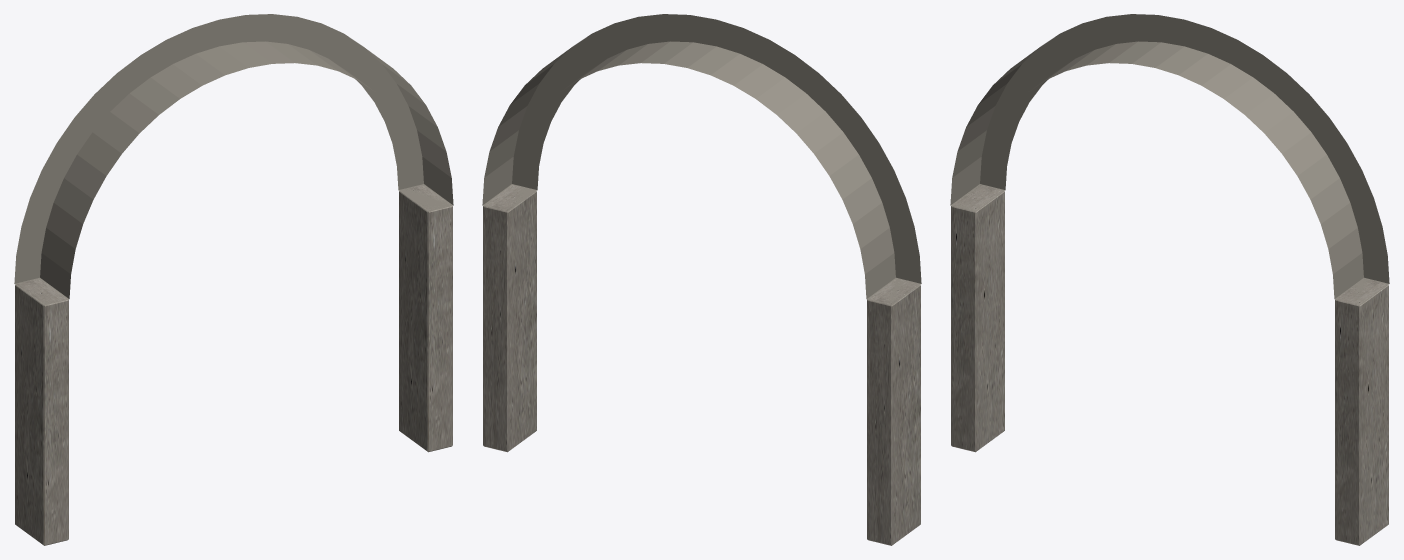
The model's file is concrete_arch.glb.
3 renders of one model, left to right at view 1: azimuth 30°, elevation 25°; view 2: azimuth 150°, elevation 25°; view 3: azimuth 330°, elevation 25°, orthographic.
Parts seen in each view (by area): view 1: Aged warm cast concrete; view 2: Aged warm cast concrete; view 3: Aged warm cast concrete.
Boxes of the visible parts, <box> form: Aged warm cast concrete: <box>14,14,453,545</box>; Aged warm cast concrete: <box>482,14,921,545</box>; Aged warm cast concrete: <box>950,14,1389,545</box>.
Size of the model in its own units: 3.2 by 3.4 by 0.4.
1 material, 1 textured.
